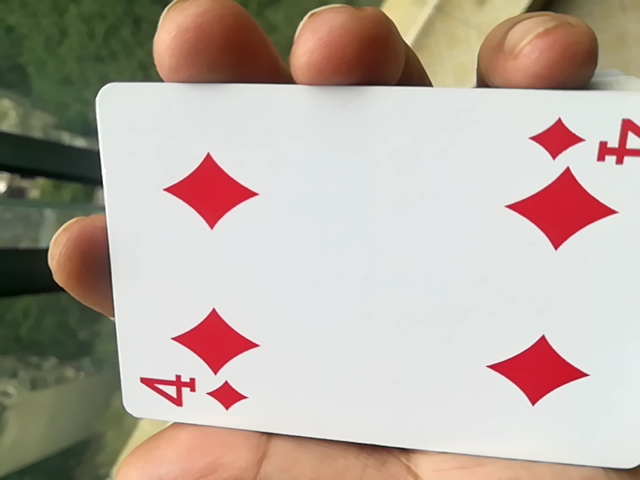fk 4: (84, 91, 636, 474)
